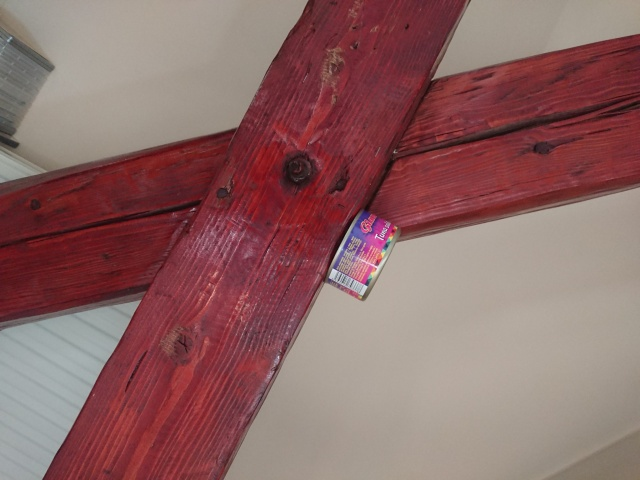Giana Tuna Salad Mexico 185g: (320, 205, 405, 303)
